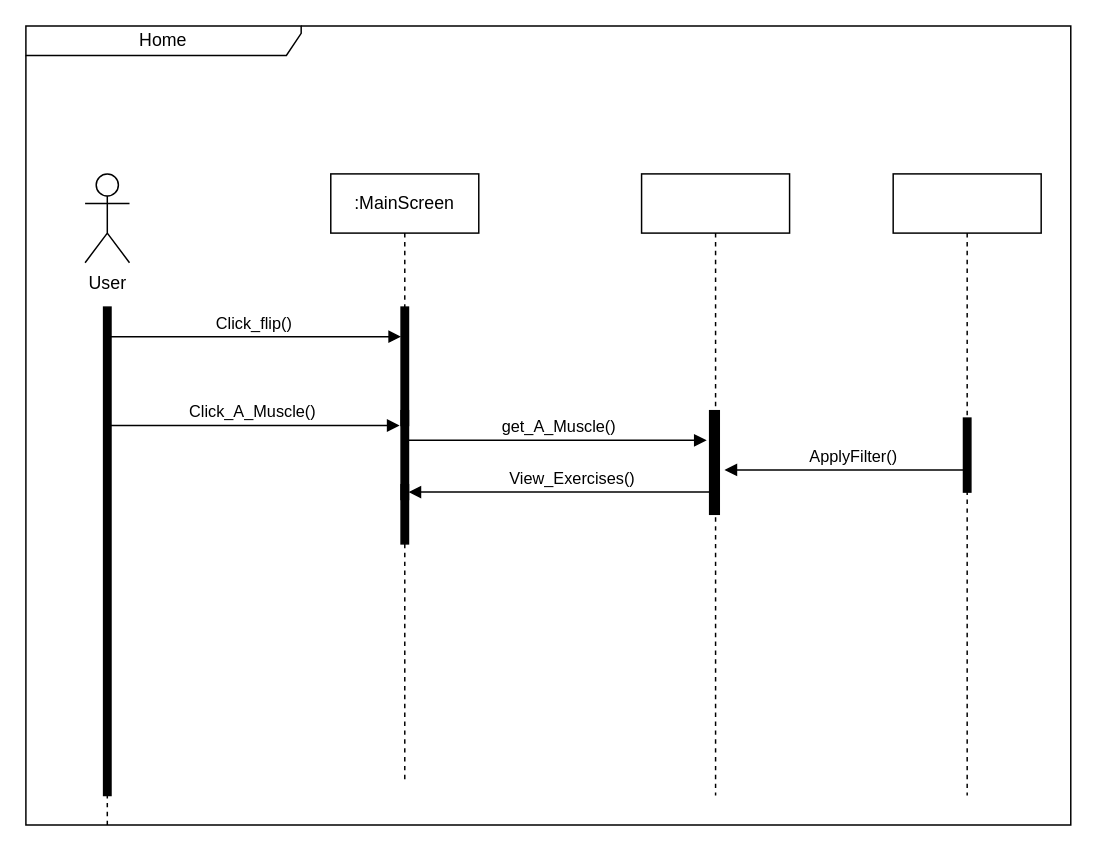
The diagram is 1097 pixels wide and 852 high, and some of its shapes have lost their labels. The centre of each missing label's shape, as x and y in pixels:
":Back" belongs at (966,484).
":Exercise List" belongs at (715,484).
